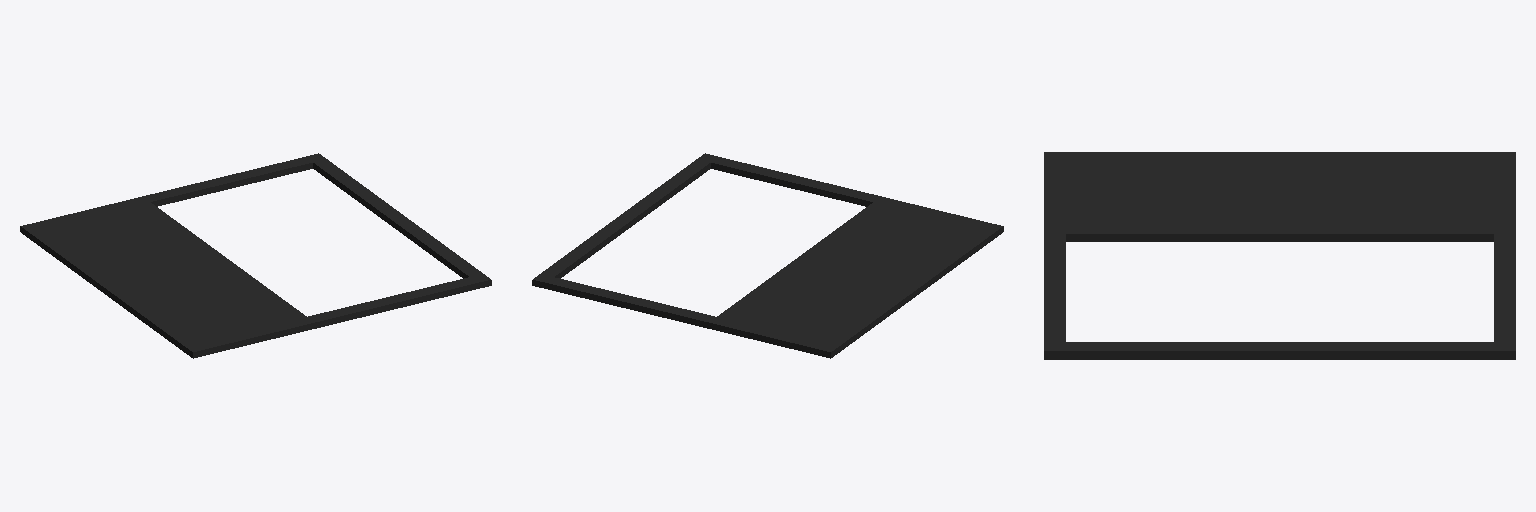
robot.urdf — Room42:
<robot name="Room42">
    <link name="_name">
        <visual> 
            <origin rpy="0.0 0.0 0.0" xyz="-0.32260747772160386 -0.4995368200981622 -0.010000000000000002" />
                <geometry>
                    <mesh filename="Room42/Room42.obj" scale="1 1 0.1" />
                </geometry>

            <material name="black">
                <color rgba="0.2 0.2 0.2 0.95" />
            </material>
        </visual>

       <collision concave="yes" name="collision_0">
            <origin rpy="0.0 0.0 0.0" xyz="-0.32260747772160386 -0.4995368200981622 -0.010000000000000002" />
            <geometry>
                <mesh filename="Room42/Room42_vhacd.obj" scale="1 1 0.1" />
            </geometry>
        </collision>

        <inertial> 
            <mass value="0" />
            <inertia ixx="0" ixy="0" ixz="0" iyy="0" iyz="0" izz="0" />
        </inertial> 
    </link>
</robot>

--- Render facts (derived) ---
3 views of the same robot in one strip: view 1: azimuth 30°, elevation 25°; view 2: azimuth 150°, elevation 25°; view 3: azimuth 270°, elevation 25° (orthographic).
Robot: Room42 — 1 links, 0 joints (none); root link _name; default pose: all joints at 0.
Visible links, largest first — view 1: _name; view 2: _name; view 3: _name.
Link boxes in pixels (x1=…): _name: x1=20, y1=153, x2=491, y2=358; _name: x1=532, y1=153, x2=1003, y2=358; _name: x1=1044, y1=152, x2=1515, y2=359.
Size in the robot's own frame: 1 by 1 by 0.02 metres.
1 mesh visuals loaded from 1 distinct referenced files (1 OBJ).